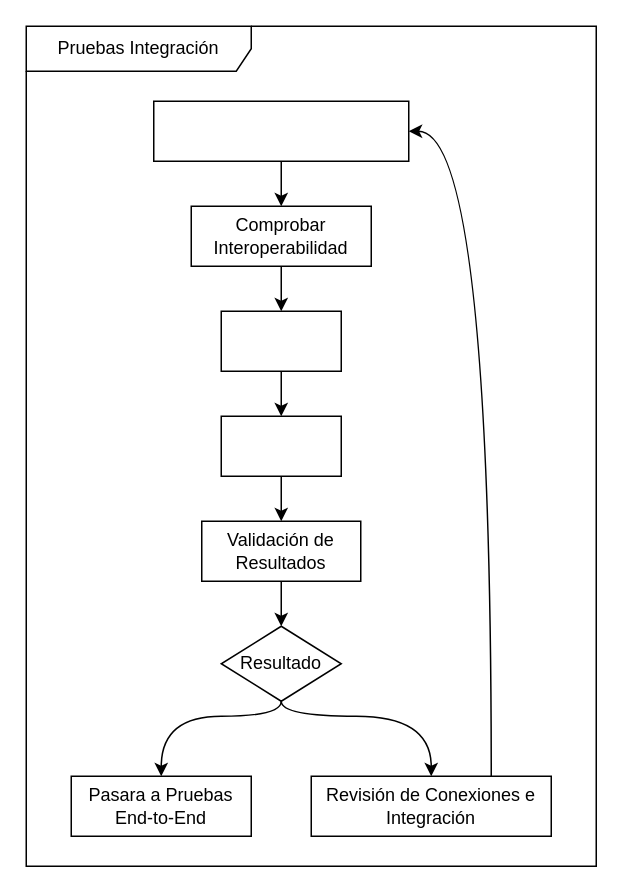
Image size: 623x893. Some labels were removed from this diagram. The centre of each missing label's shape, as x and y in pixels:
"Pruebas de API Gateway" goes at point (280, 445).
"Validar APIS Externas" goes at point (280, 340).
"Verificar Conexión Entre Componentes Internos" goes at point (280, 130).
